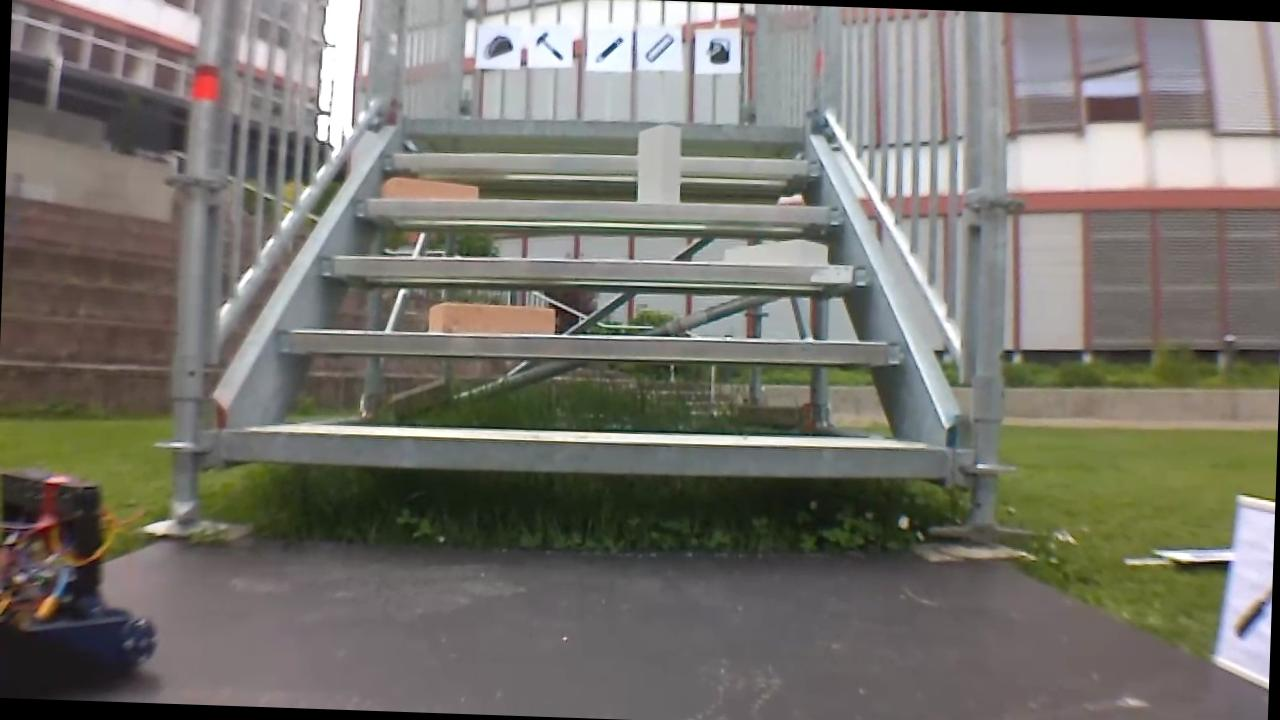brick: (428, 301, 553, 335), (636, 122, 679, 204), (381, 175, 479, 200)
bucket: (702, 33, 735, 67)
edge: (221, 419, 948, 485), (275, 322, 903, 371), (322, 246, 872, 291), (356, 191, 844, 226), (383, 144, 826, 181), (403, 112, 805, 145)
hammer: (532, 28, 568, 61)
pencil: (587, 31, 627, 65)
ruler: (640, 29, 678, 64)
steps: (211, 102, 969, 491)
taco: (480, 29, 516, 64)
